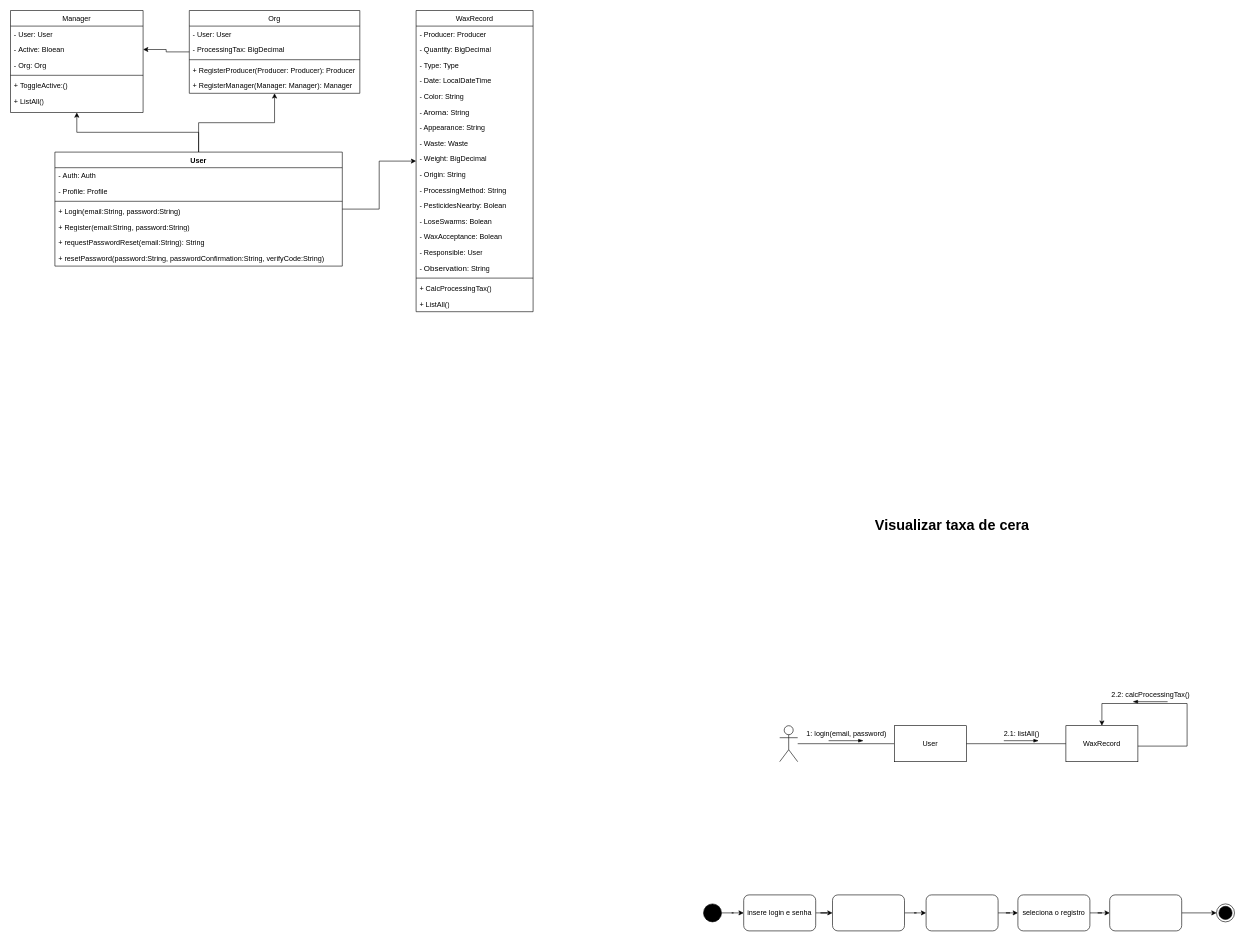
This 1245x941 diagram has some shape labels left out. Each missing label, with the centre of its shape:
"faz a busca de ceras registradas" belongs at point 962,912.
"Manager/Org" belongs at point 788,743.
"realiza o login" belongs at point 868,912.
"sistema retorna a taxa referente a determinado registro" belongs at point 1145,912.
